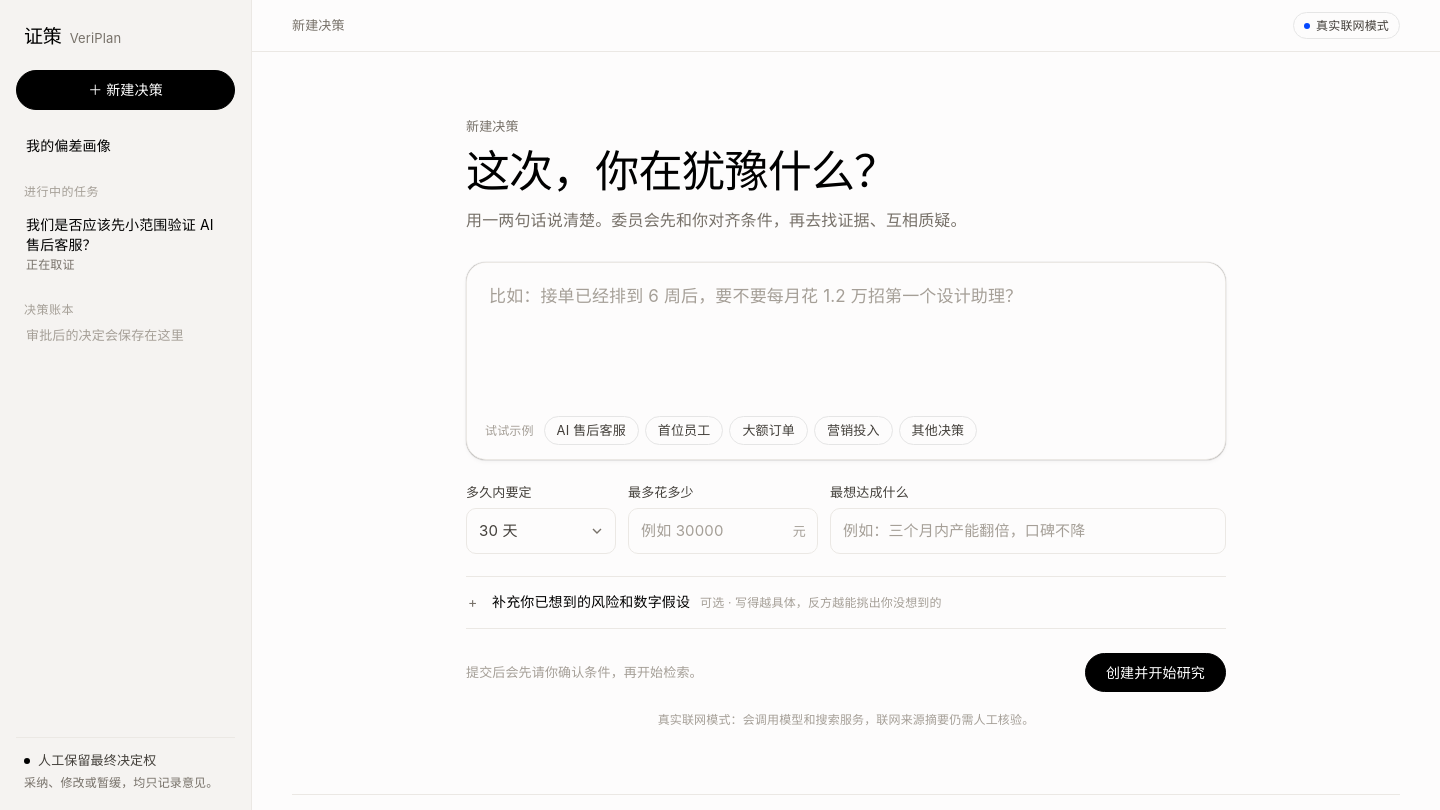
Test: decision workspace › shows truthful live copy and disclosed research query progress
Click the button "我们是否应该先小范围验证 AI 售后客服？ 正在取证" at [126, 244], box [16, 207, 235, 282]
(page scrolled)
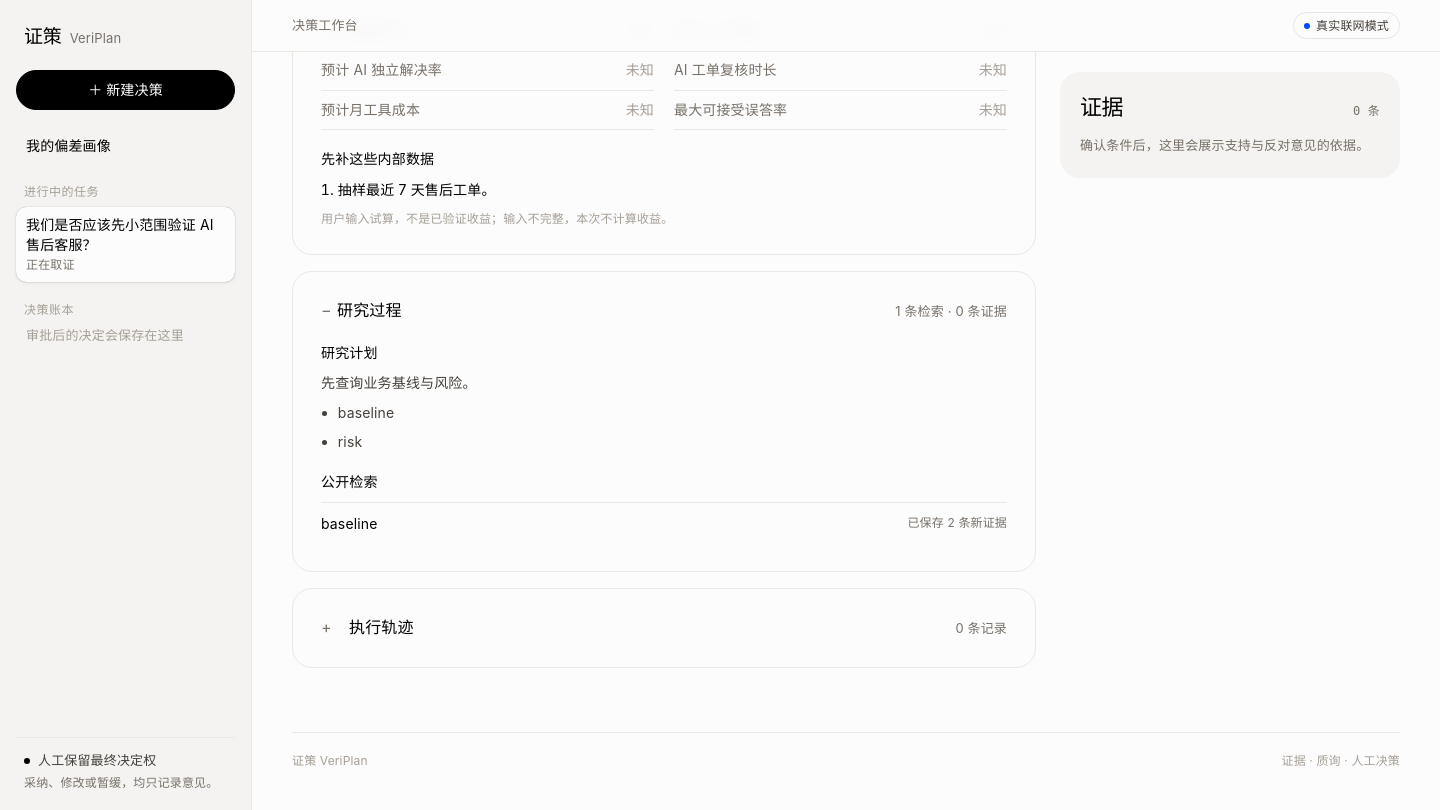
Expected: the element named "公开搜索计划" is shown, [321, 471, 1007, 545]
Expected: the list item "baseline" is shown, [338, 404, 394, 422]
Expected: the text "已保存 2 条新证据" is shown, [907, 513, 1007, 535]
